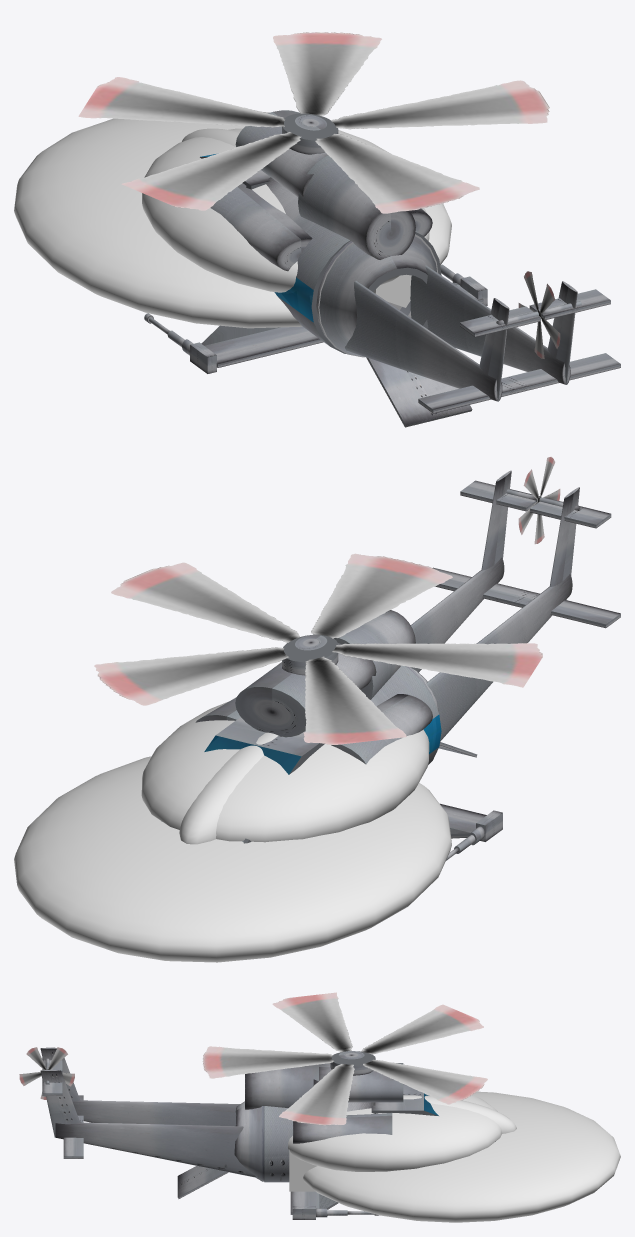
The model's file is choppa.dae.
3 views of the same model, one above another, from view 1: azimuth 30°, elevation 25°; view 2: azimuth 150°, elevation 25°; view 3: azimuth 270°, elevation 25° (orthographic). The views are drawn at different scales.
Parts seen in each view (by area): view 1: Sphere2, Circle1, Sphere1, Cylinder7, Cylinder6, Cylinder8, Cylinder2, Cylinder5, Cylinder14, Box4, Box1, Box11 (+13 smaller); view 2: Sphere2, Circle1, Sphere1, Cylinder4, Cylinder7, Sphere, Cylinder8, Cylinder6, Box1, Cylinder5, Box7, Cylinder19 (+9 smaller); view 3: Sphere2, Circle1, Sphere1, Cylinder8, Cylinder7, Cylinder6, Cylinder14, Cylinder3, Cylinder2, Cylinder4, Cylinder10, Sphere (+9 smaller).
Part boxes in pixels (x1,y1,x2,y2): Sphere2: [14, 111, 451, 328]; Circle1: [78, 32, 549, 213]; Sphere1: [142, 128, 429, 292]; Cylinder7: [345, 281, 502, 401]; Cylinder6: [298, 155, 415, 259]; Cylinder8: [410, 265, 570, 384]; Cylinder2: [317, 236, 436, 356]; Cylinder5: [210, 183, 312, 271]; Cylinder14: [266, 177, 441, 353]; Box4: [201, 283, 483, 367]; Box1: [418, 353, 620, 413]; Box11: [366, 357, 472, 427]; Sphere2: [14, 756, 451, 962]; Circle1: [94, 553, 542, 744]; Sphere1: [141, 701, 429, 842]; Cylinder4: [235, 643, 376, 737]; Cylinder7: [426, 574, 572, 741]; Sphere: [179, 732, 278, 844]; Cylinder8: [410, 557, 504, 672]; Cylinder6: [334, 610, 415, 699]; Box1: [433, 567, 620, 628]; Cylinder5: [331, 694, 432, 764]; Box7: [161, 717, 324, 843]; Cylinder19: [282, 634, 338, 675]; Sphere2: [303, 1091, 620, 1222]; Circle1: [202, 992, 487, 1125]; Sphere1: [288, 1095, 501, 1171]; Cylinder8: [55, 1122, 255, 1177]; Cylinder7: [73, 1100, 239, 1126]; Cylinder6: [245, 1064, 318, 1109]; Cylinder14: [264, 1102, 375, 1182]; Cylinder3: [293, 1113, 392, 1143]; Cylinder2: [234, 1101, 262, 1181]; Cylinder4: [313, 1063, 403, 1102]; Cylinder10: [40, 1070, 79, 1137]; Sphere: [403, 1095, 516, 1133].
Bounding box in the file's own units: 5.21 × 2.41 × 9.16.
